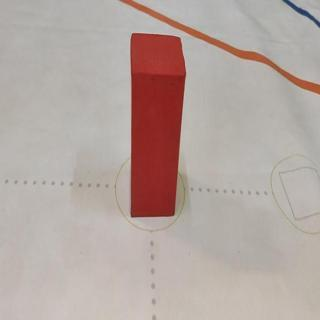redbox: (129, 30, 186, 217)
